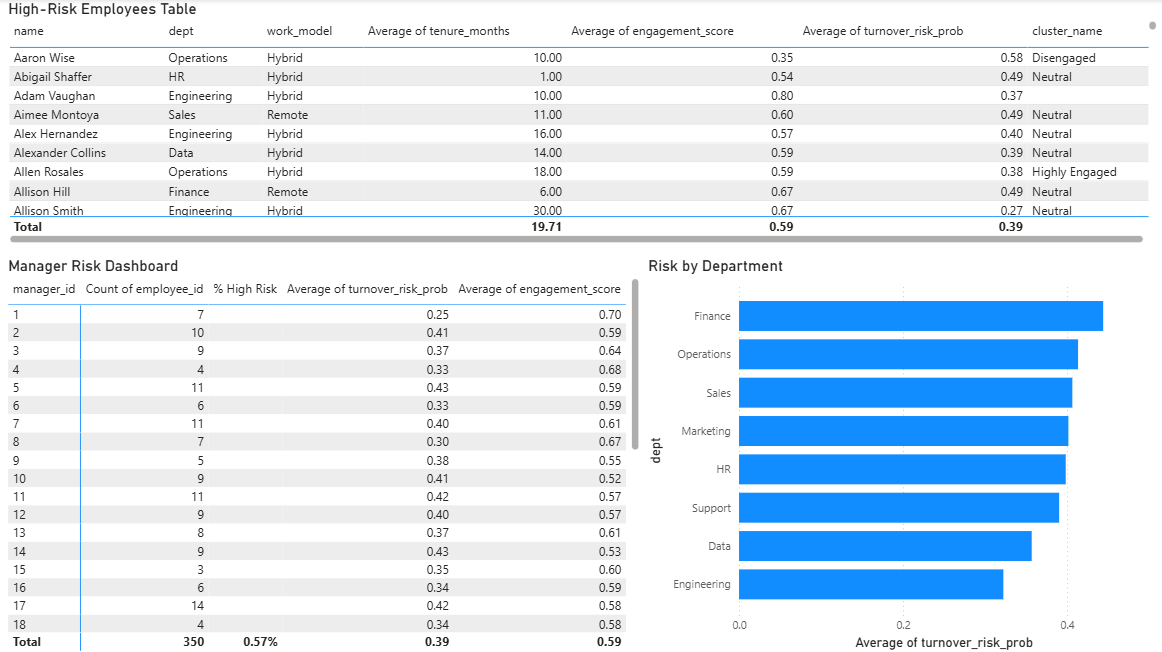

What the dashboard file says about the page in this screenshot:
{"tool":"powerbi","page":{"name":"Risk Analysis","canvas":[1280,720],"ordinal":2},"visuals":[{"type":"tableEx","title":"High-Risk Employees Table","fields":{"Values":["dim_employee.name","dim_employee.dept","dim_employee.work_model","dim_employee.tenure_months","features_latest.engagement_score","features_latest.turnover_risk_prob","features_latest.cluster_name"]},"box":[4.1,0,1270.7,273.1],"z":0},{"type":"pivotTable","title":"Manager Risk Dashboard","fields":{"Rows":["dim_employee.manager_id"],"Values":["dim_employee.employee_id","dim_employee.% High Risk","features_latest.turnover_risk_prob","features_latest.engagement_score"]},"box":[4.1,282.7,702.6,437.7],"z":1},{"type":"clusteredBarChart","title":"Risk by Department","fields":{"Category":["dim_employee.dept"],"Y":["features_latest.turnover_risk_prob"]},"box":[707,283,568,437],"z":2}]}

Visuals, with their boxes in screenshot pixels (x1, y1, x2, y2), scaled from the page's 1280x720 canvas onto the 1162x652 screenshot:
"High-Risk Employees Table" tableEx: x1=4 y1=0 x2=1157 y2=247
"Manager Risk Dashboard" pivotTable: x1=4 y1=256 x2=642 y2=651
"Risk by Department" clusteredBarChart: x1=642 y1=256 x2=1157 y2=651
